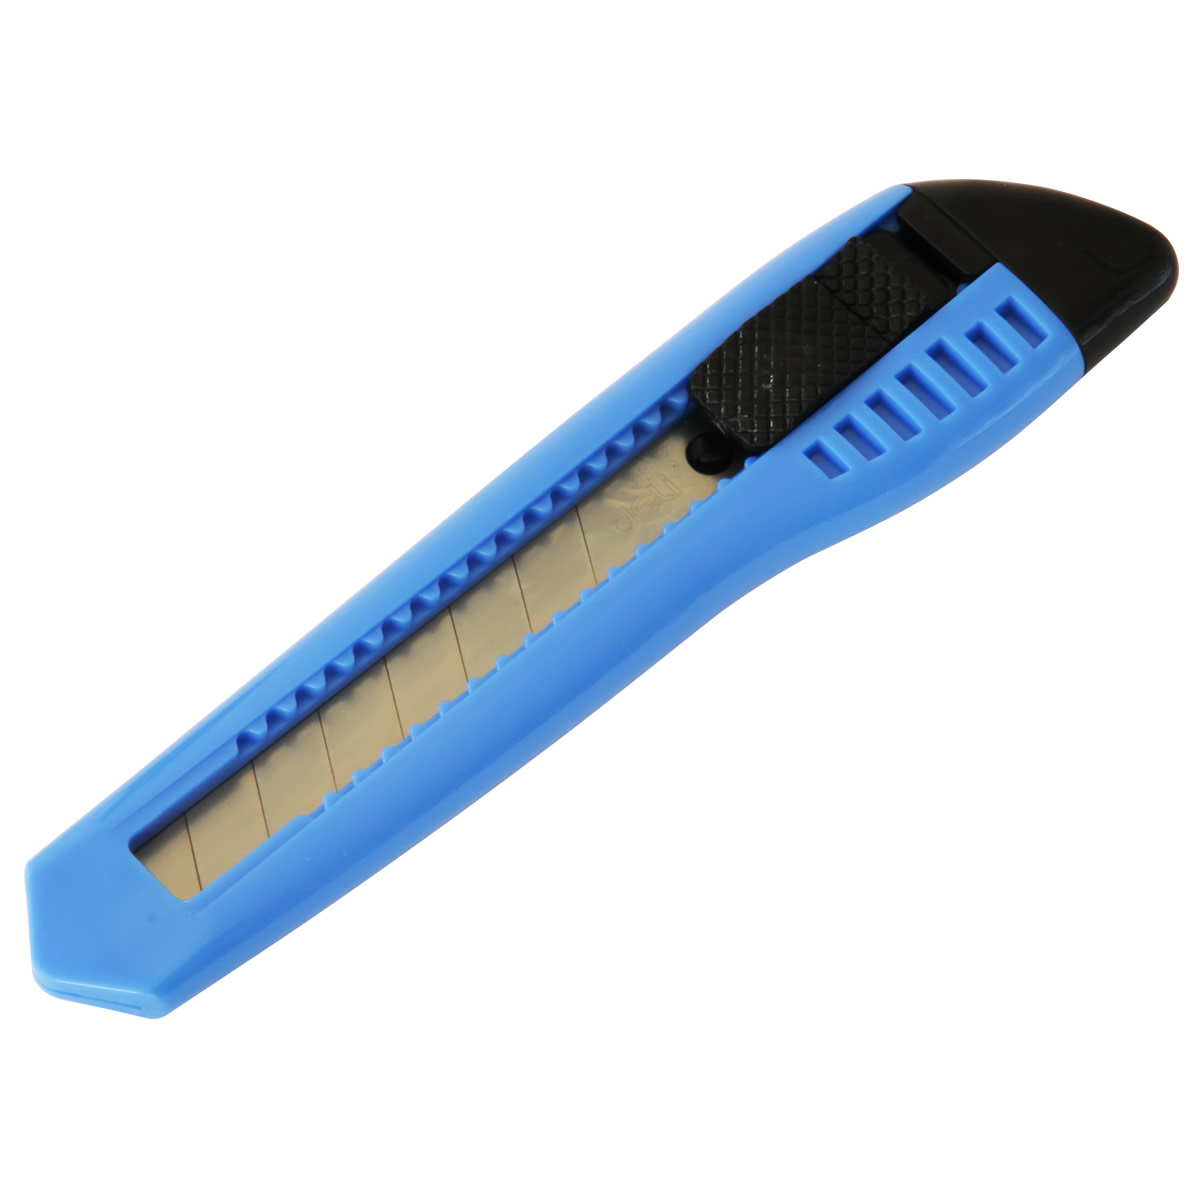cutter: (25, 178, 1181, 1019)
